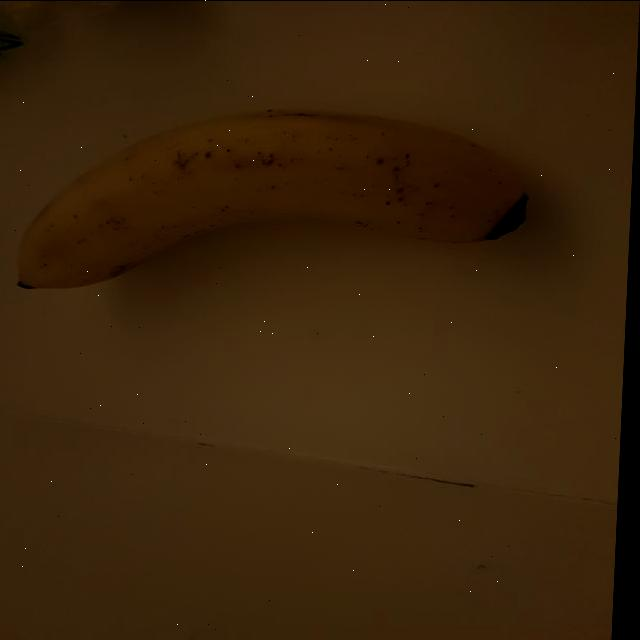banana: (7, 106, 540, 293)
